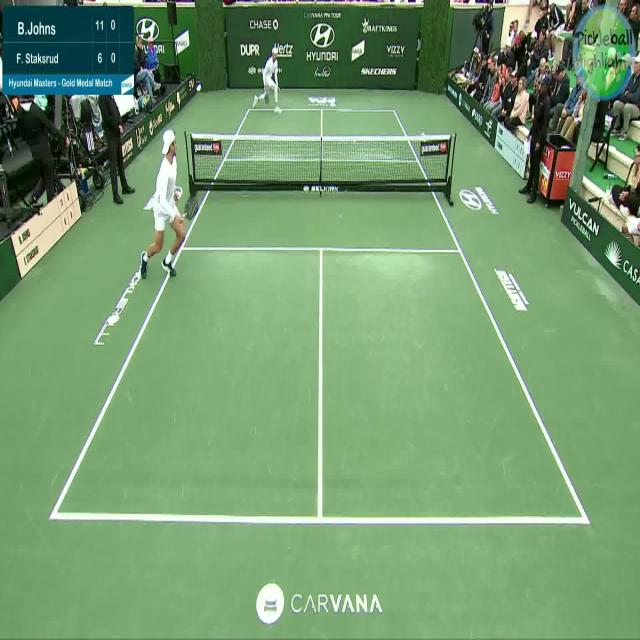Court: (52, 109, 585, 523)
